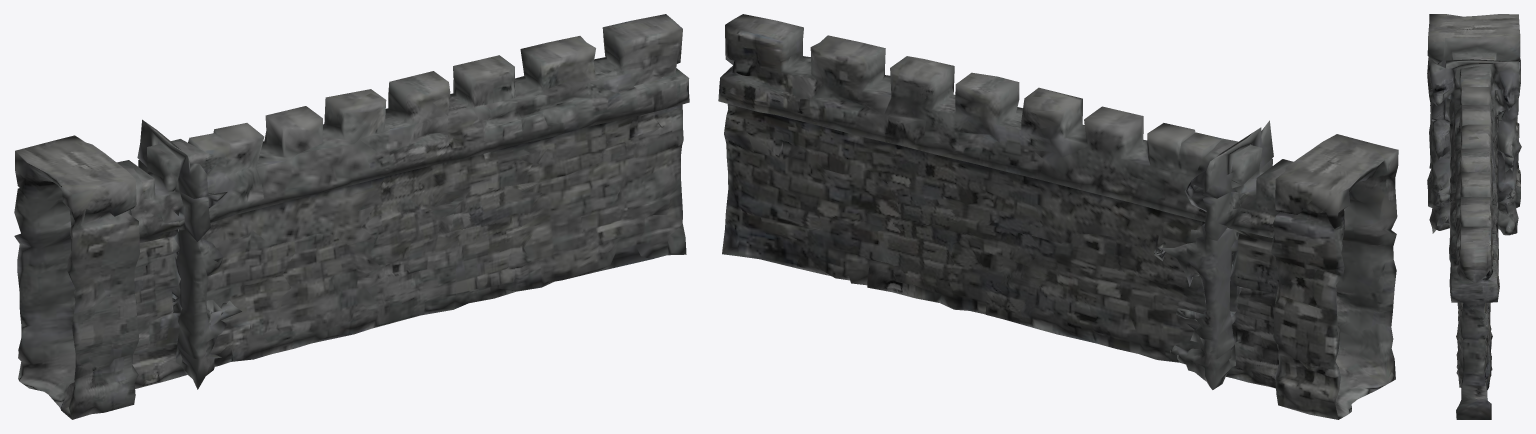
Rendered from castle_wall.glb.
The picture shows the model from 3 angles, left to right: view 1: azimuth 30°, elevation 25°; view 2: azimuth 150°, elevation 25°; view 3: azimuth 270°, elevation 25°; orthographic projection. The views are drawn at different scales.
Visible parts, largest first — view 1: tripo_node_c4a952de-48fc-4477-946e-60de7acee0ca; view 2: tripo_node_c4a952de-48fc-4477-946e-60de7acee0ca; view 3: tripo_node_c4a952de-48fc-4477-946e-60de7acee0ca.
Part boxes in pixels (bbox=[...]): tripo_node_c4a952de-48fc-4477-946e-60de7acee0ca: bbox=[14, 14, 689, 419]; tripo_node_c4a952de-48fc-4477-946e-60de7acee0ca: bbox=[718, 14, 1398, 419]; tripo_node_c4a952de-48fc-4477-946e-60de7acee0ca: bbox=[1427, 14, 1521, 419].
Size of the model in its own units: 1 by 0.345 by 0.1709.
Materials: 1 (1 with a texture image).
